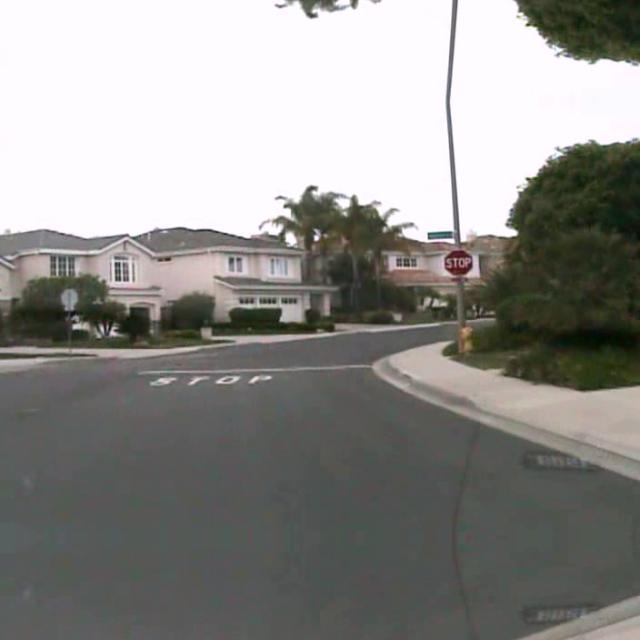stop: (443, 247, 473, 275)
